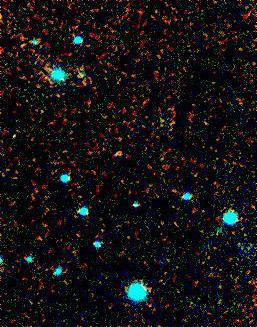star: (106, 138, 136, 168)
